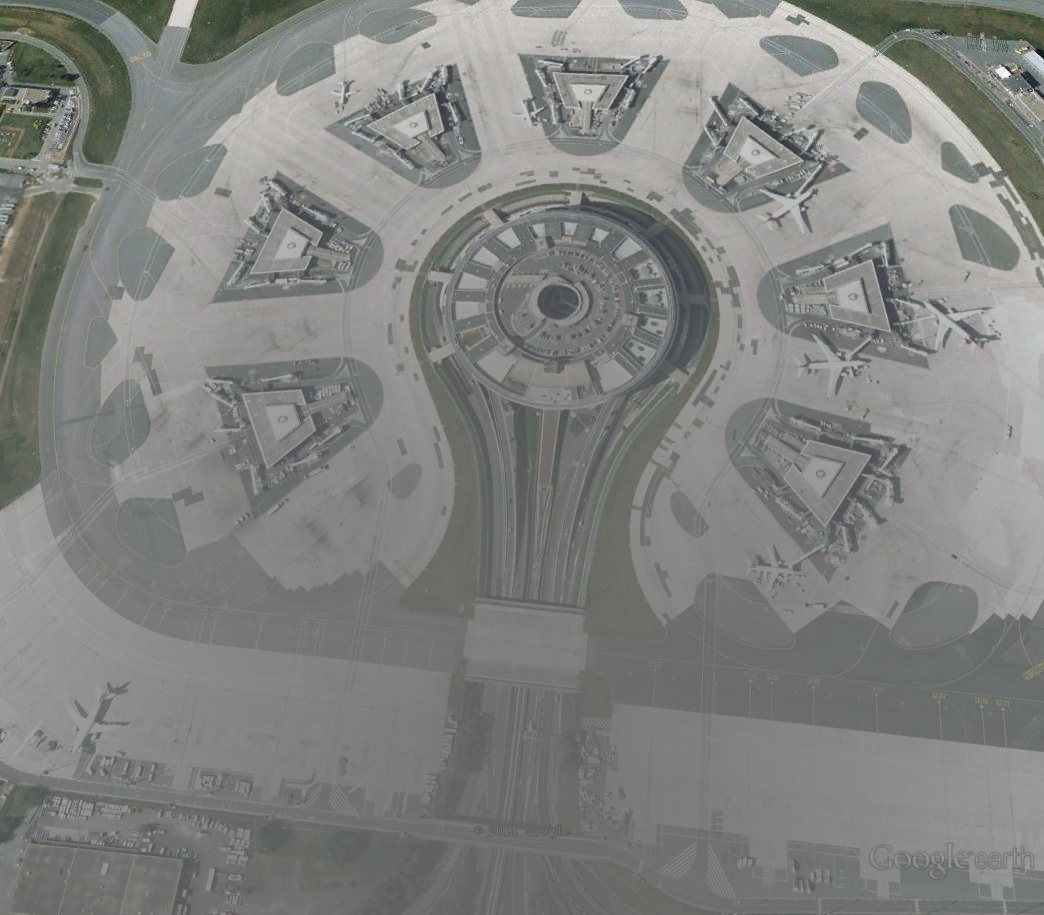aircraft: (793, 333, 869, 401), (60, 685, 126, 758), (919, 299, 994, 358), (743, 544, 805, 598), (753, 188, 814, 238), (510, 96, 548, 130), (329, 79, 361, 109)
